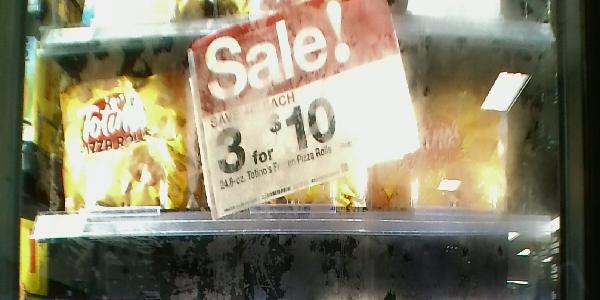icecream: (60, 75, 203, 212)
